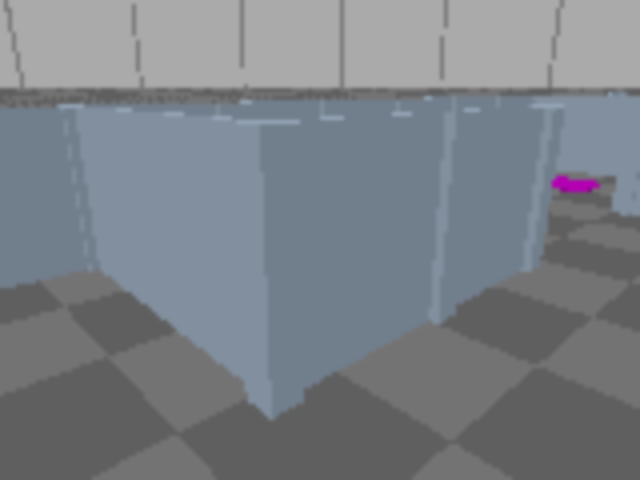goal_zone: (515, 175, 607, 193)
